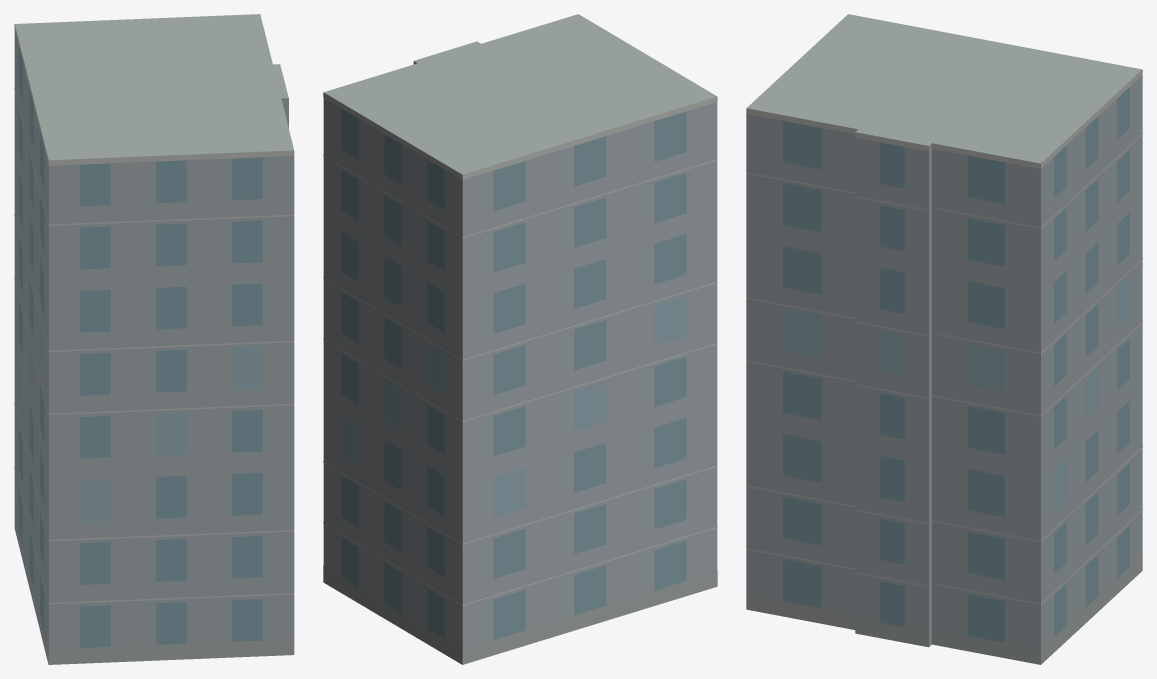
File: survey-upis-32670339.glb
3 renders of one model, left to right at view 1: azimuth 30°, elevation 25°; view 2: azimuth 150°, elevation 25°; view 3: azimuth 270°, elevation 25°, orthographic. The views are drawn at different scales.
Visible parts, largest first — view 1: survey-upis-32670339.tmp; view 2: survey-upis-32670339.tmp; view 3: survey-upis-32670339.tmp.
Part boxes in pixels (x1,y1,x2,y2): survey-upis-32670339.tmp: [14, 14, 294, 664]; survey-upis-32670339.tmp: [323, 14, 717, 664]; survey-upis-32670339.tmp: [746, 14, 1142, 664].
Size of the model in its own units: 14.36 by 22.4 by 16.07.
